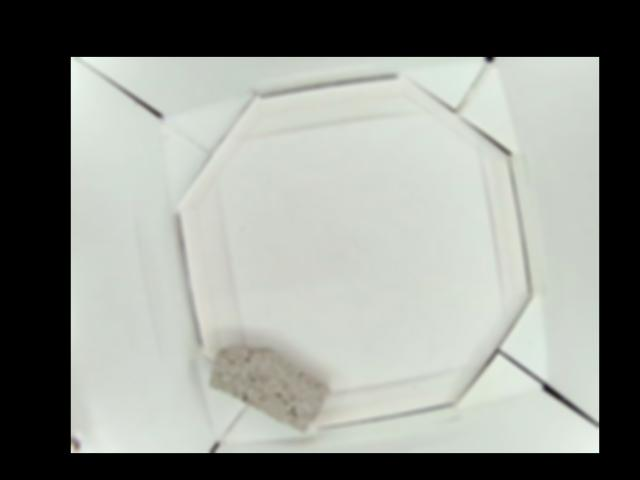China: (206, 345, 330, 432)
